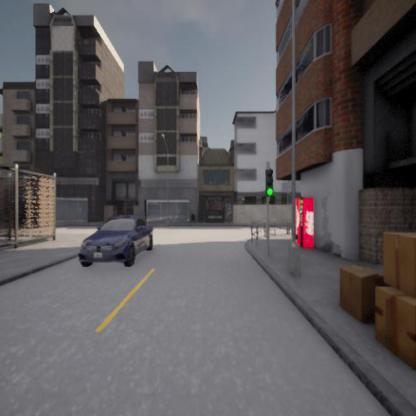traffic_light_green: (264, 169, 274, 197)
vehicle: (78, 216, 154, 266)
